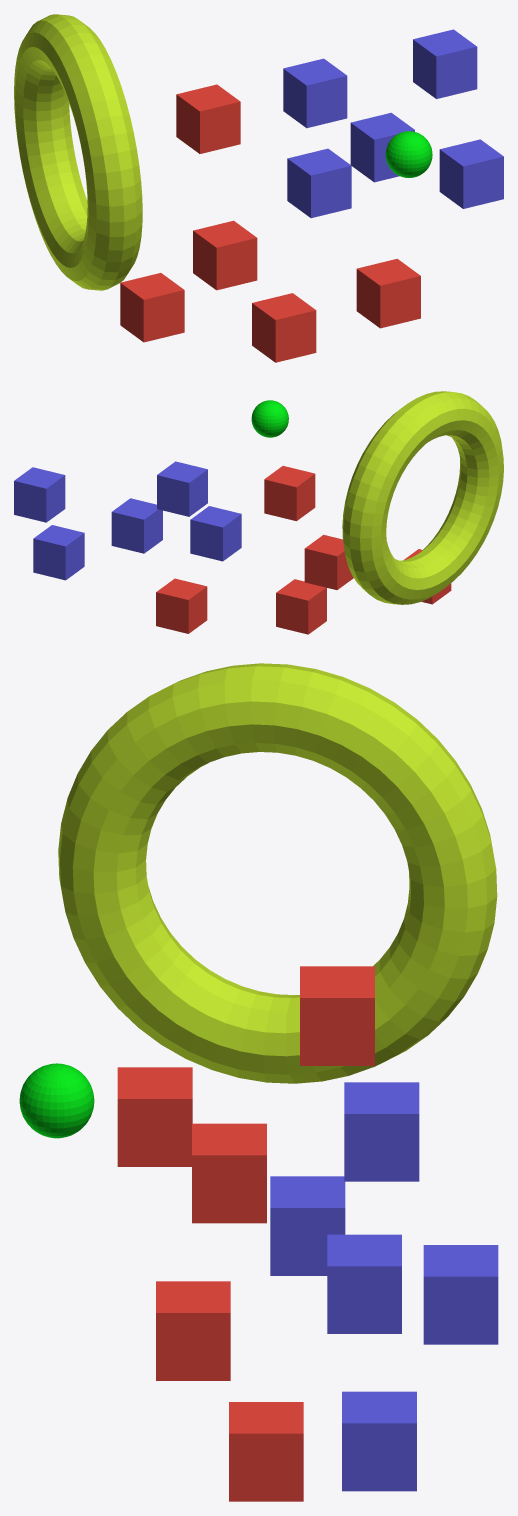
The model's file is node_test_dva.fbx.
3 views of the same model, one above another, from view 1: azimuth 30°, elevation 25°; view 2: azimuth 150°, elevation 25°; view 3: azimuth 270°, elevation 25° (orthographic). The views are drawn at different scales.
Parts seen in each view (by area): view 1: Torus, Cube.006, Cube.007, Cube, Cube.001, Cube.005, Cube.008, Cube.009, Cube.003, Cube.004, Cube.002, Sphere; view 2: Torus, Cube.004, Cube.005, Cube.009, Cube.001, Cube.006, Cube.002, Cube.003, Cube.008, Cube, Sphere; view 3: Torus, Cube.003, Cube.004, Cube, Cube.005, Cube.007, Cube.002, Cube.006, Cube.008, Cube.009, Cube.001, Sphere.
Part boxes in pixels (x1,y1,x2,y2): Torus: (14,14,142,290); Cube.006: (176,84,240,153); Cube.007: (120,273,184,342); Cube: (193,220,257,290); Cube.001: (287,148,351,218); Cube.005: (439,139,503,208); Cube.008: (252,293,316,362); Cube.009: (356,258,420,328); Cube.003: (283,58,347,128); Cube.004: (413,29,477,98); Cube.002: (350,112,414,182); Sphere: (385,131,432,177); Torus: (342,391,503,604); Cube.004: (14,467,65,522); Cube.005: (33,525,84,580); Cube.009: (156,578,207,633); Cube.001: (190,506,241,561); Cube.006: (264,466,315,521); Cube.002: (111,498,162,553); Cube.003: (157,461,207,516); Cube.008: (276,579,326,634); Cube: (304,534,353,589); Sphere: (251,400,288,437); Torus: (58,663,497,1083); Cube.003: (344,1082,419,1181); Cube.004: (423,1245,498,1344); Cube: (192,1123,266,1223); Cube.005: (342,1391,416,1491); Cube.007: (117,1067,192,1166); Cube.002: (327,1234,401,1333); Cube.006: (300,966,374,1065); Cube.008: (156,1281,230,1380); Cube.009: (229,1402,303,1501); Cube.001: (270,1176,345,1275); Sphere: (19,1063,94,1138).
Size of what is drawn, in the model's own units: 23.99 by 16.97 by 12.78.
